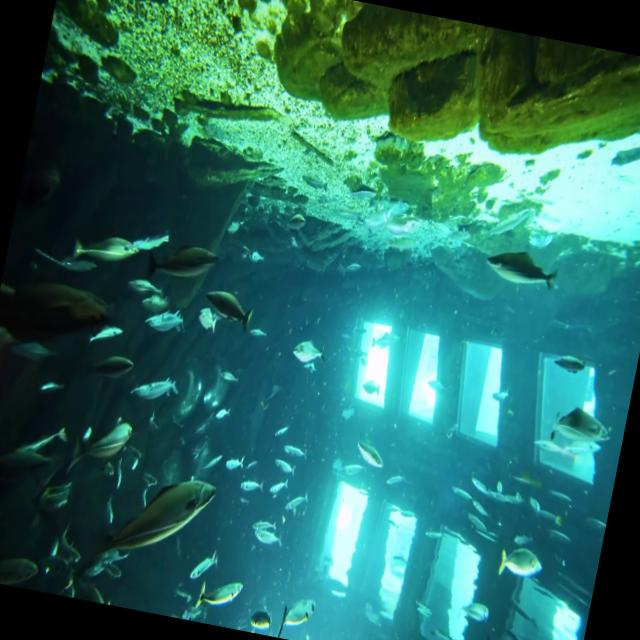fish: (76, 454, 222, 595), (0, 280, 120, 352), (476, 230, 575, 308), (64, 412, 138, 492), (134, 242, 215, 298), (188, 562, 255, 624), (195, 280, 259, 344), (496, 532, 554, 591), (275, 584, 328, 640), (77, 349, 136, 396), (126, 368, 184, 414), (548, 340, 600, 385), (143, 304, 188, 346), (124, 278, 174, 304), (138, 288, 172, 316)
